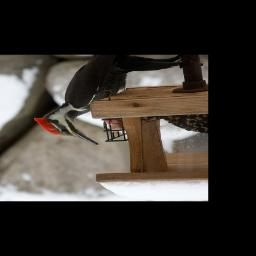Woodpecker: (24, 55, 190, 145)
